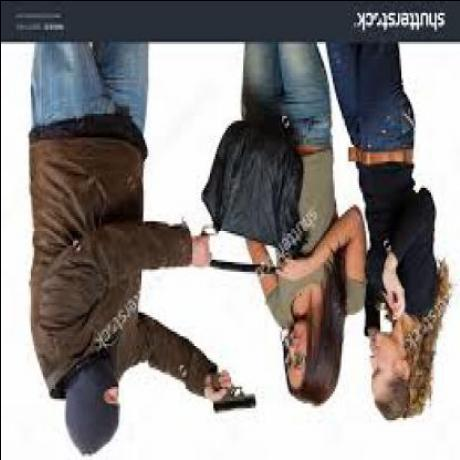1: (24, 43, 234, 456), (323, 40, 453, 426), (237, 41, 370, 409)
weapon: (203, 364, 260, 418)
